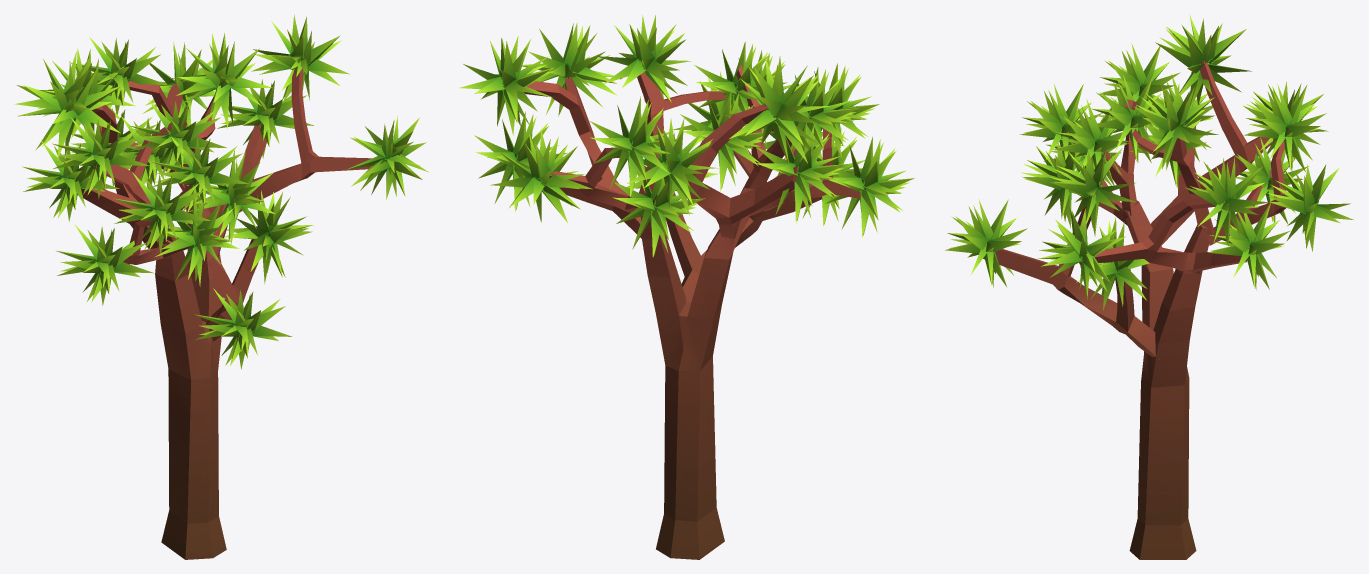
The picture shows the model from 3 angles, left to right: view 1: azimuth 30°, elevation 25°; view 2: azimuth 150°, elevation 25°; view 3: azimuth 270°, elevation 25°; orthographic projection. The views are drawn at different scales.
Parts seen in each view (by area): view 1: JoshuaTree1; view 2: JoshuaTree1; view 3: JoshuaTree1.
Part boxes in pixels (x1,y1,x2,y2): JoshuaTree1: [14, 14, 428, 559]; JoshuaTree1: [459, 15, 914, 559]; JoshuaTree1: [945, 15, 1353, 559].
Size of the model in its own units: 232 by 300 by 231.
1 material, 1 textured.
